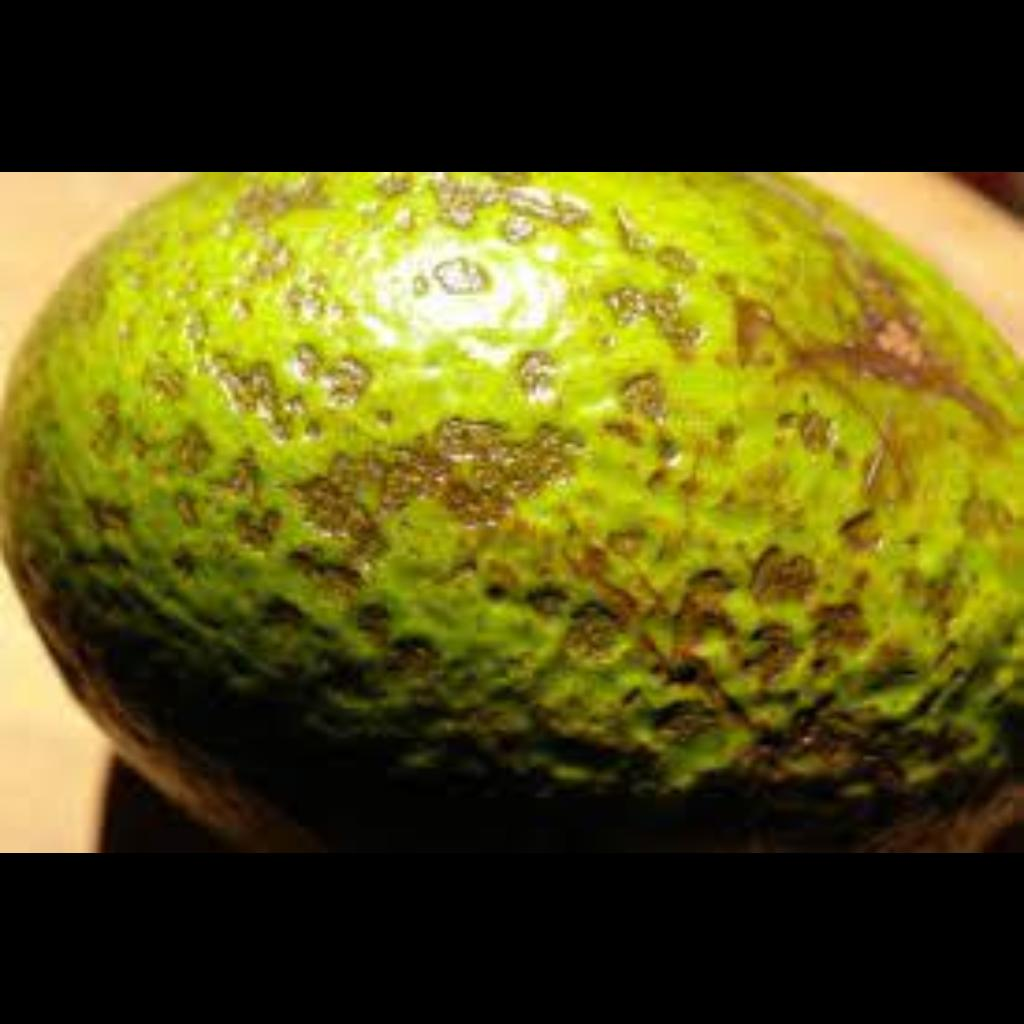cercospora_spot: (78, 238, 924, 766)
